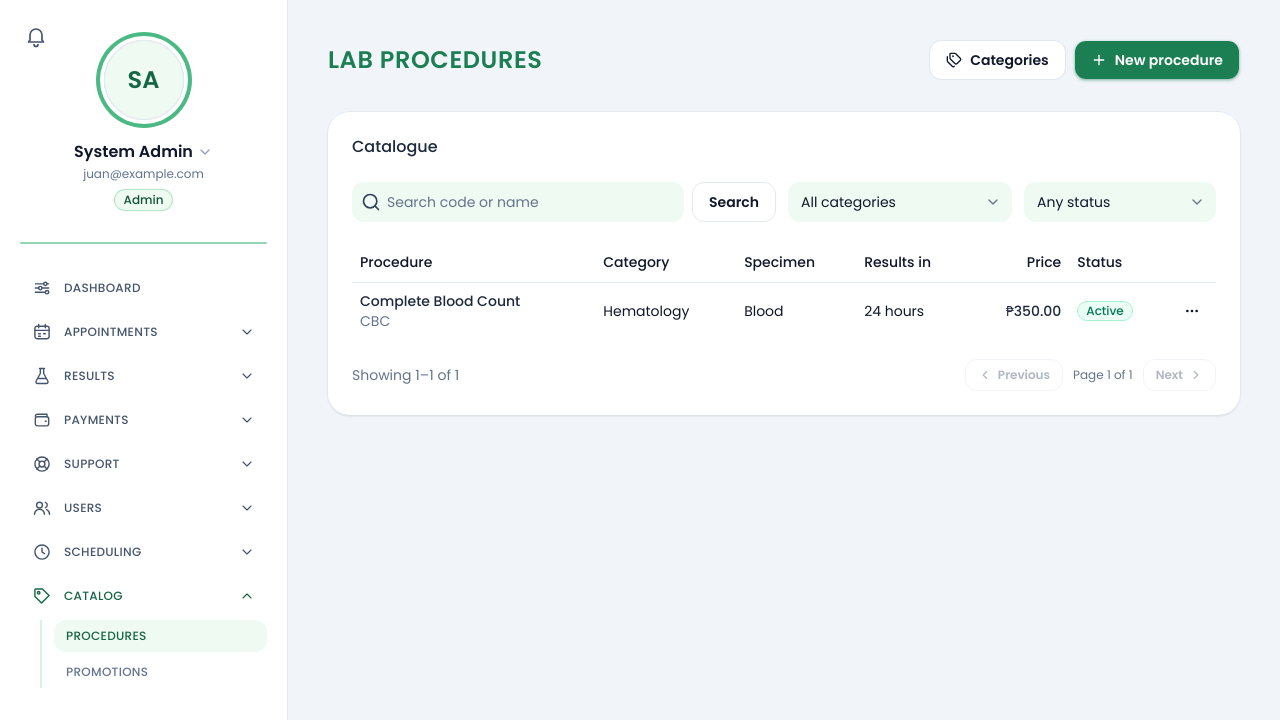
Test: ProceduresPage › lets an admin deactivate a procedure after confirming
Click the button named "Actions for Complete Blood Count".
click(1192, 310)  # box x1=1176 y1=294 x2=1208 y2=326
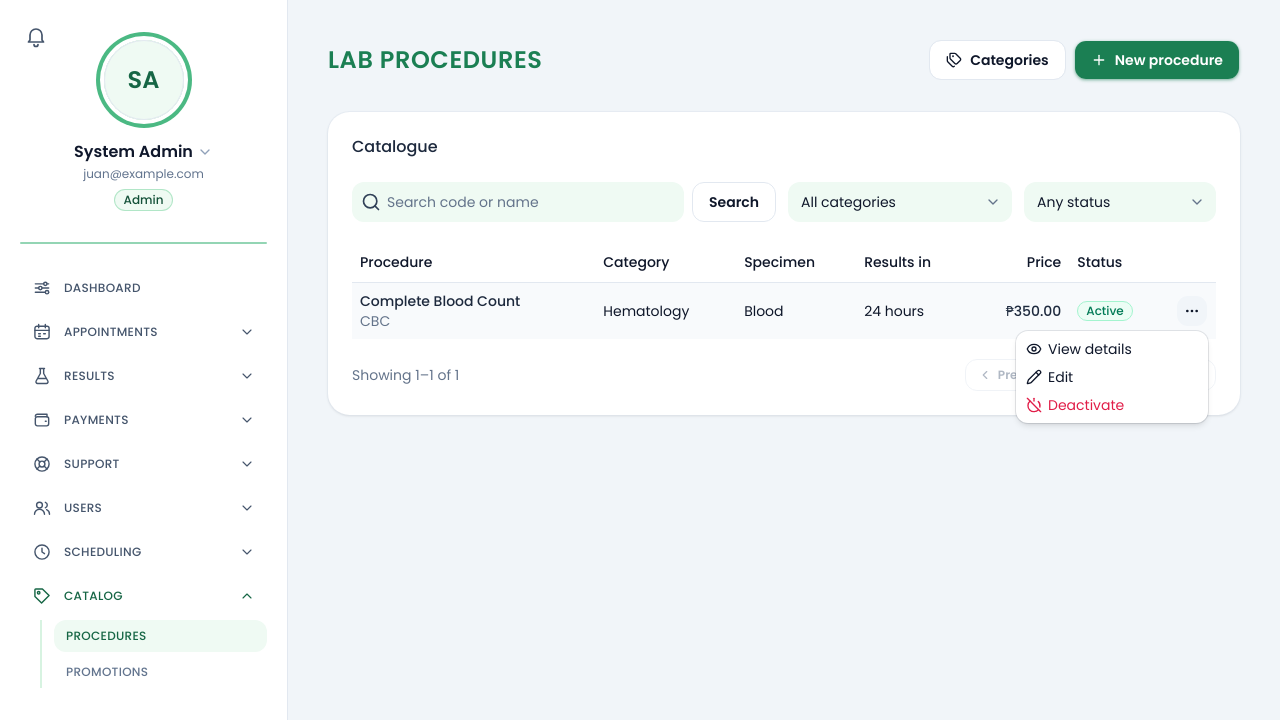
Click the menu item "Deactivate".
click(1075, 405)  # box x1=1026 y1=395 x2=1124 y2=415
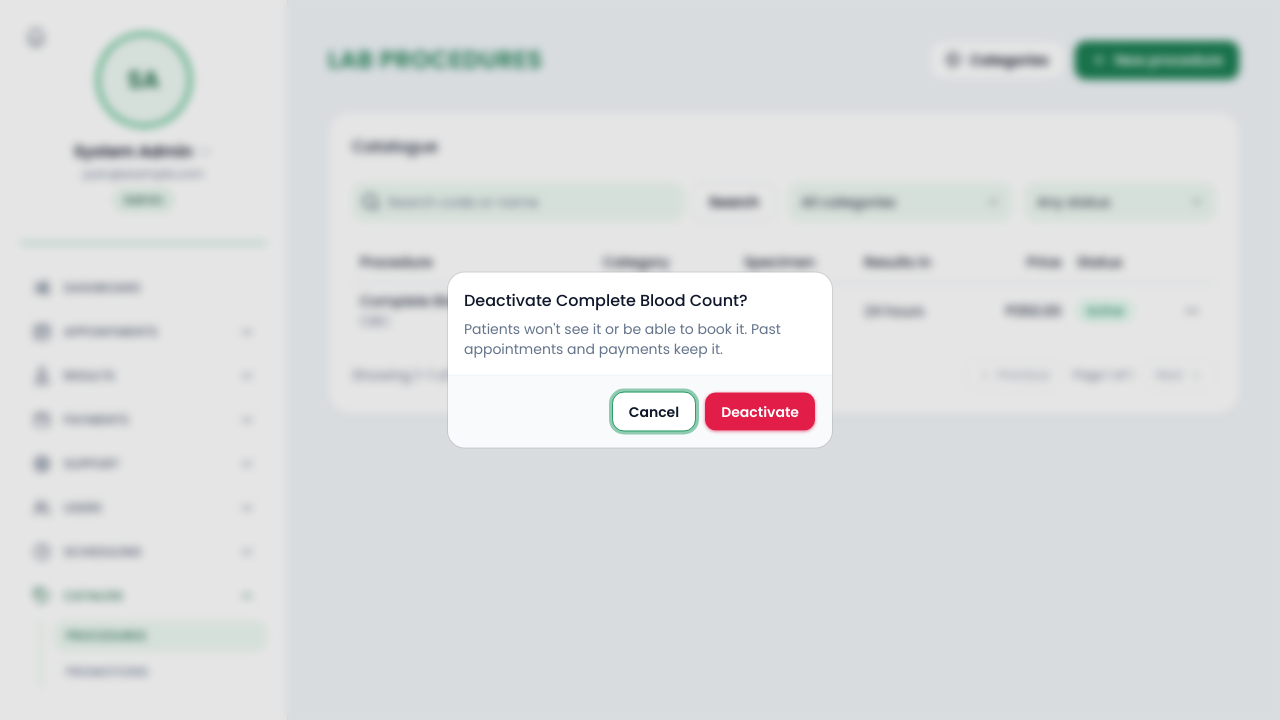
Click the button "Deactivate".
click(760, 412)  # box x1=704 y1=392 x2=816 y2=432
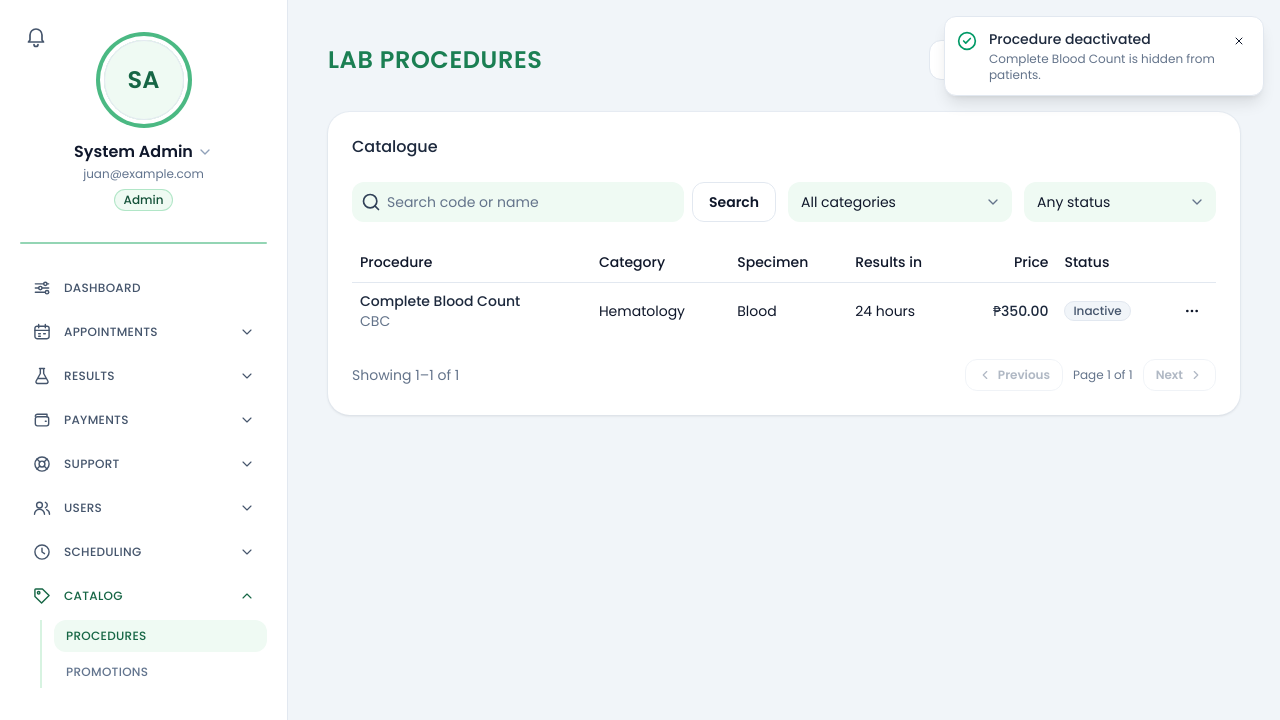
Check: the text "Procedure deactivated" is shown, box x1=989 y1=29 x2=1151 y2=49
Check: the text "Inactive" is shown, box x1=1064 y1=301 x2=1131 y2=321
